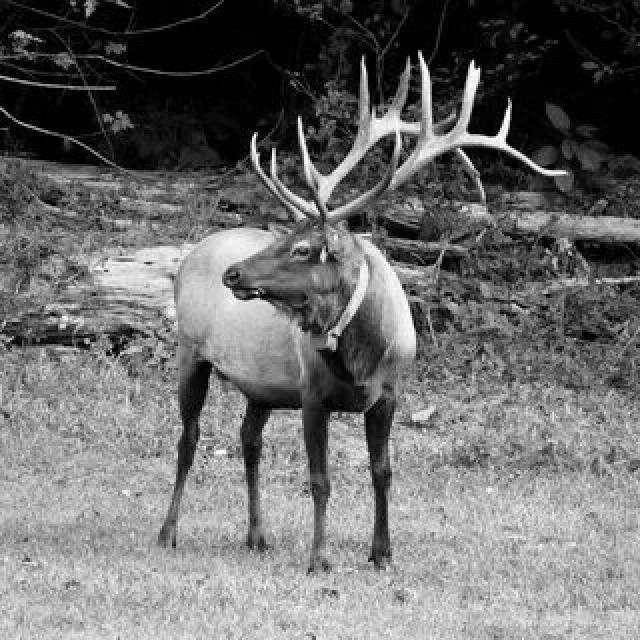Deer: (139, 66, 519, 548)
